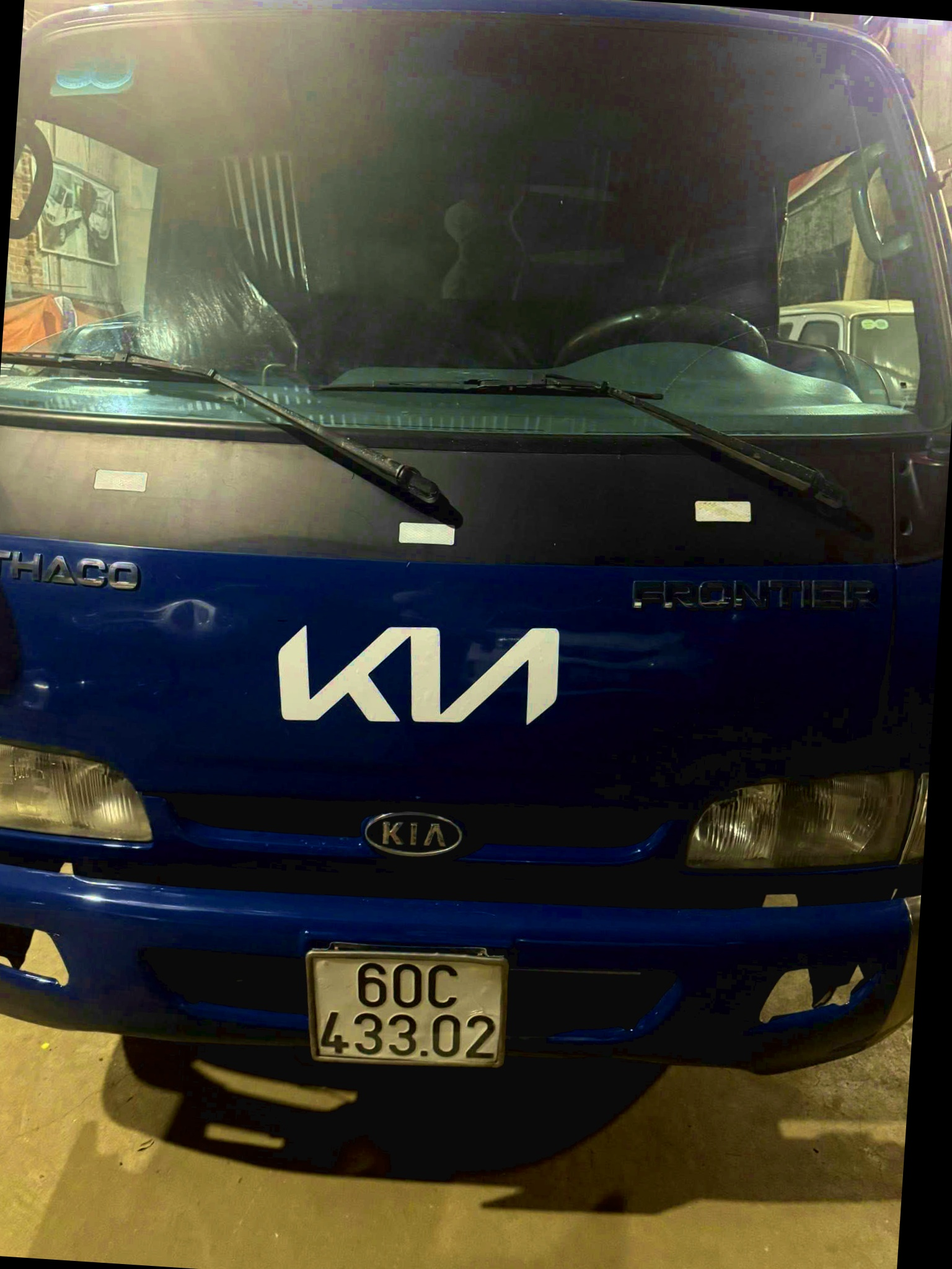Bien-so: (334, 949, 531, 1061)
